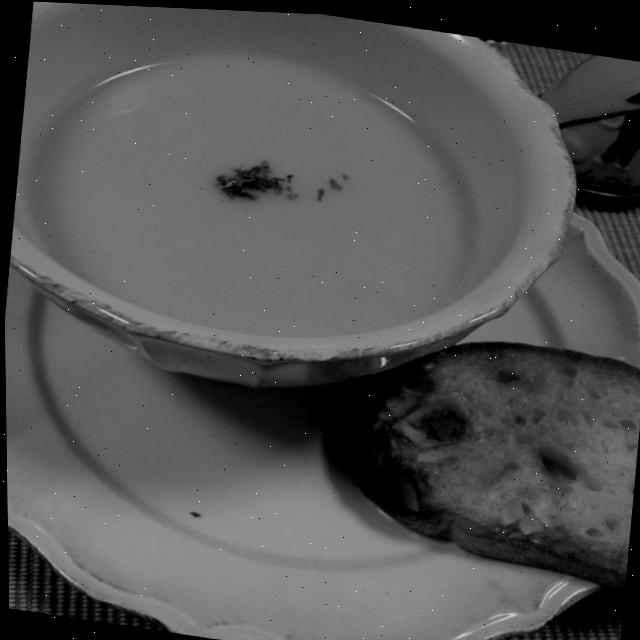汤锅炖物: (0, 0, 596, 419)
